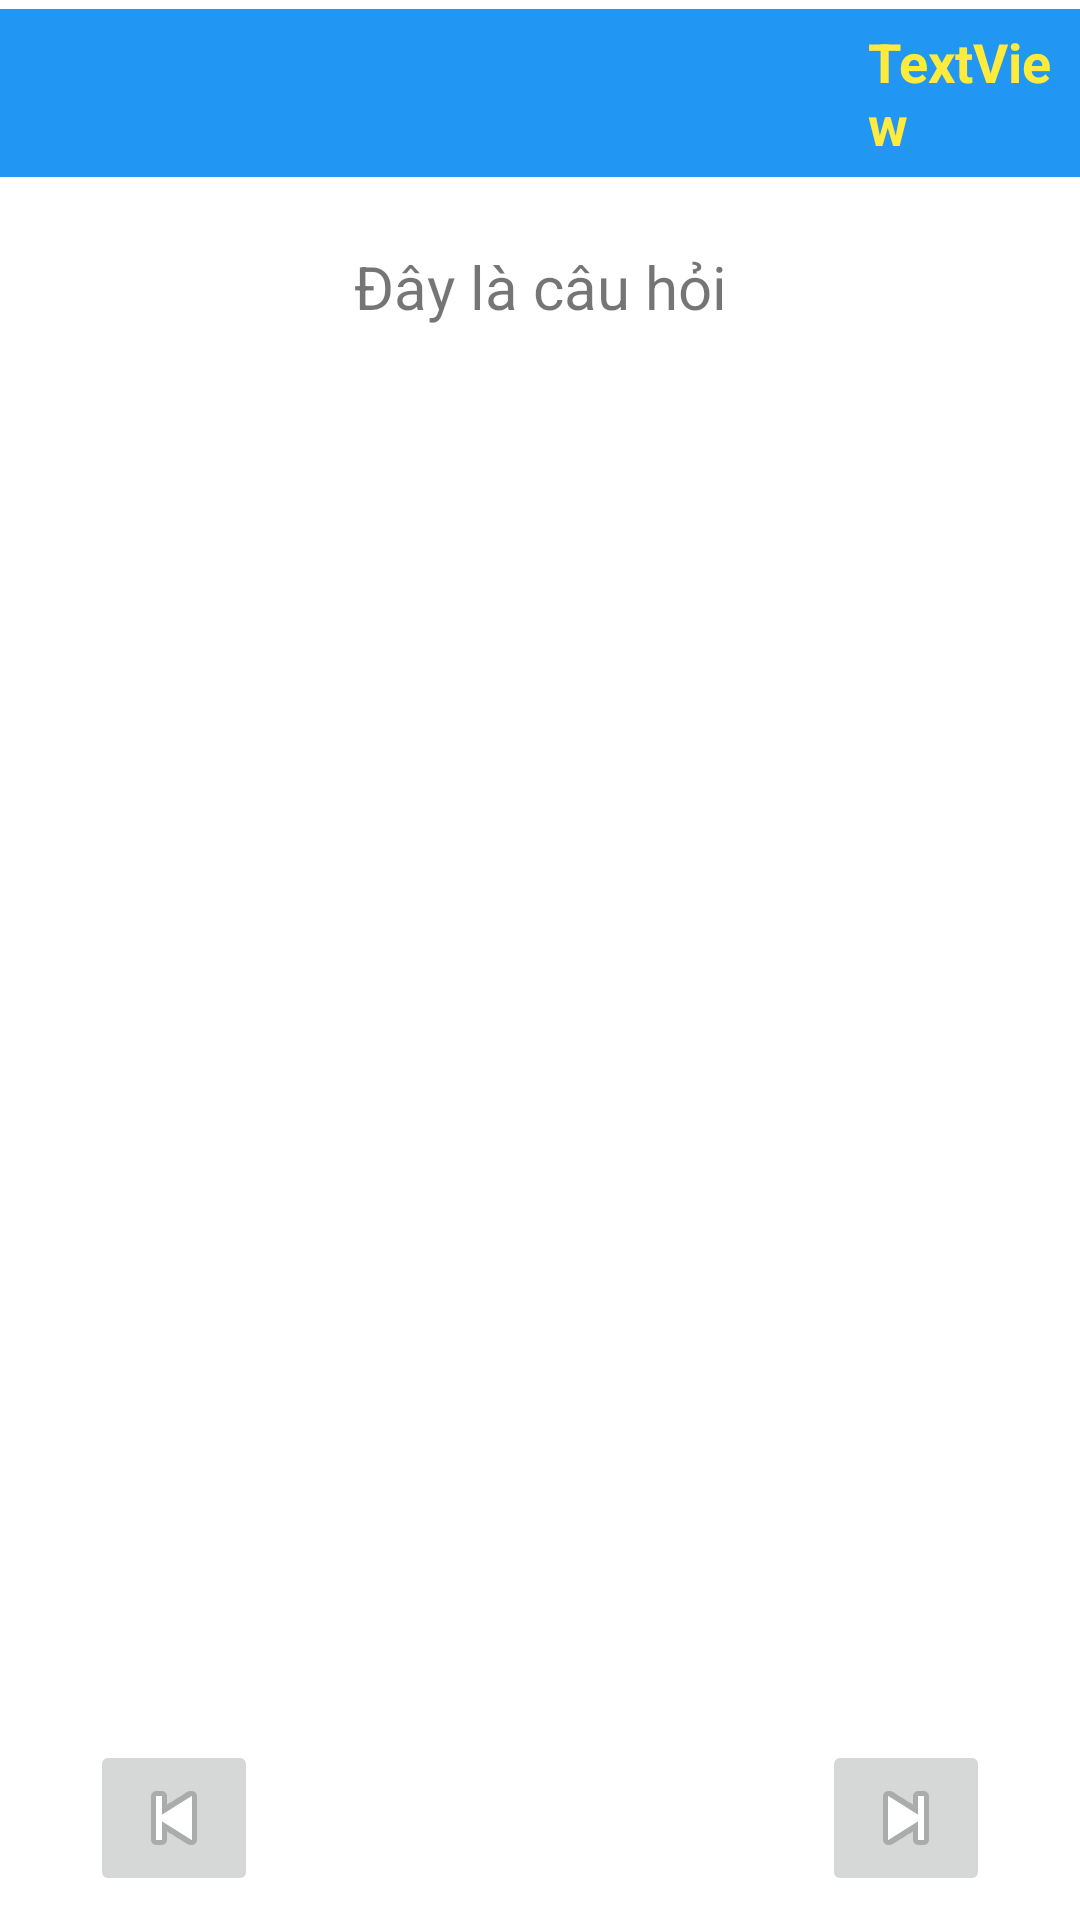

Icon click points for this 1080×1920 phone screenshot, format [x,y]:
next: [906,1818]
previous: [174,1818]
